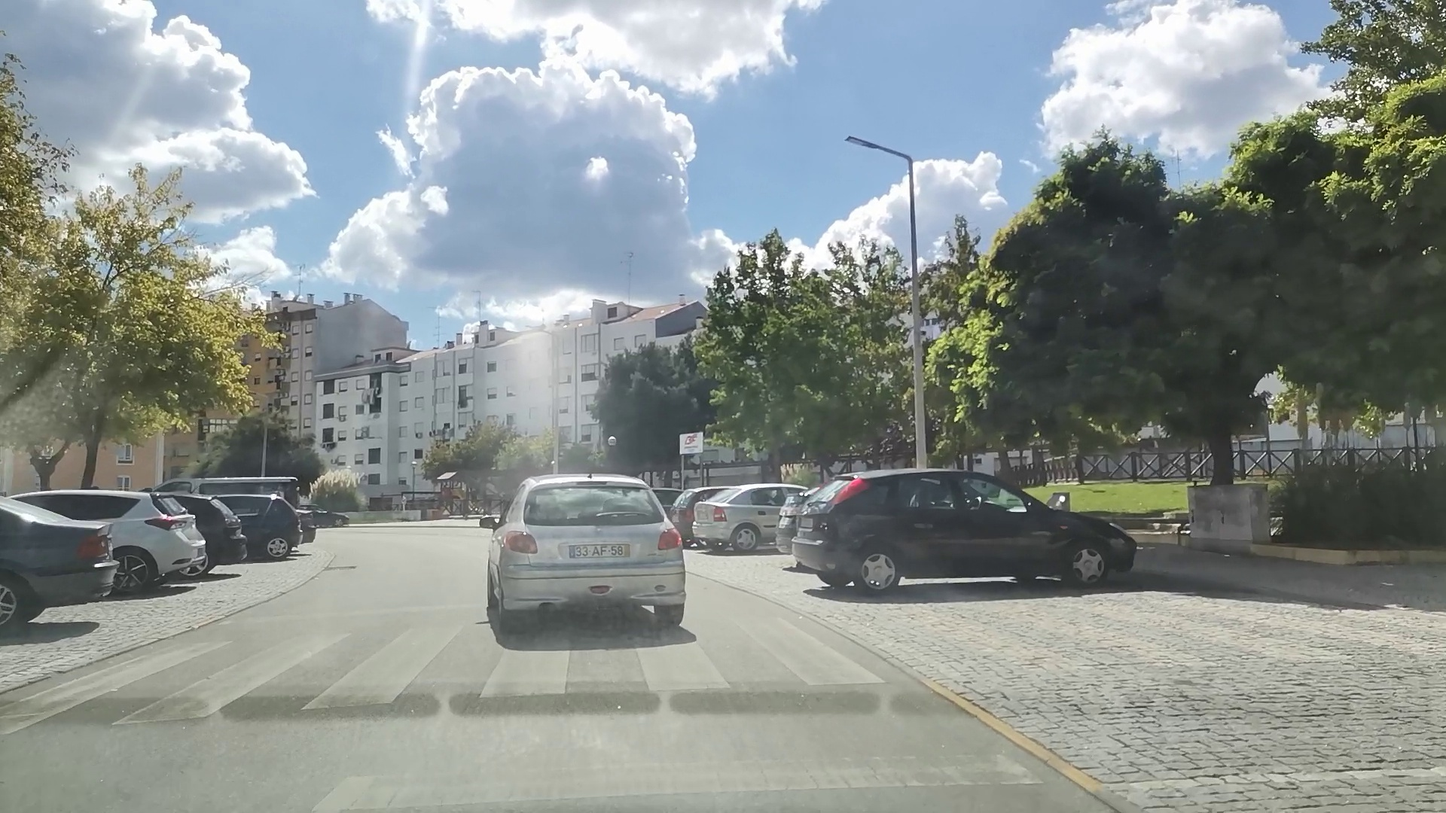Stairs: (0, 616, 891, 725)
